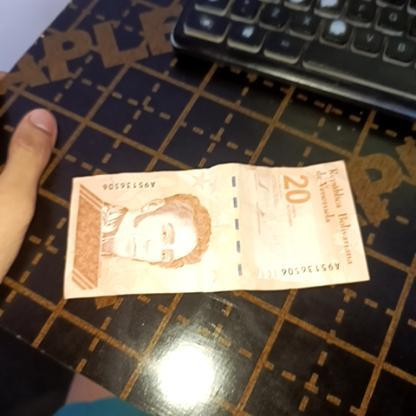vef_front: (63, 159, 370, 298)
